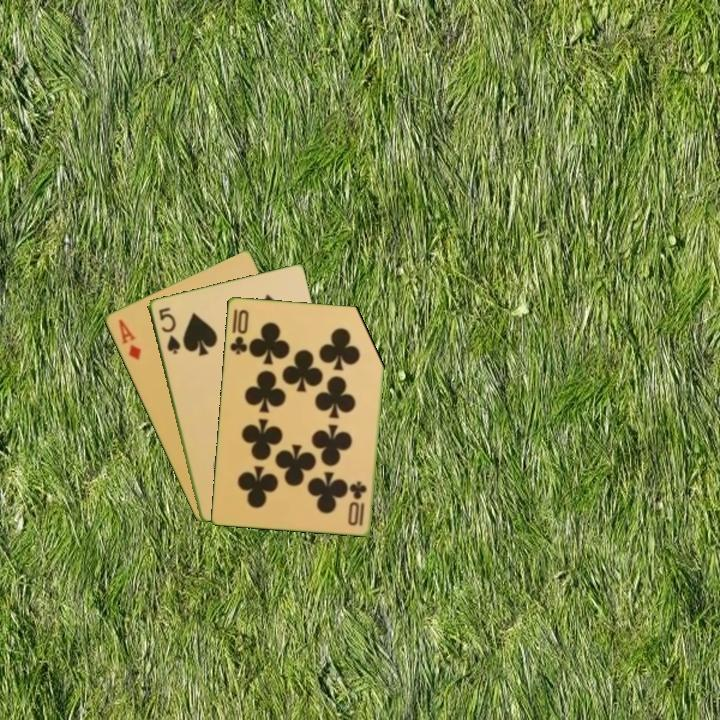10c: (226, 306, 251, 357), (348, 477, 369, 529)
5s: (155, 304, 183, 357)
Ad: (114, 315, 144, 363)
